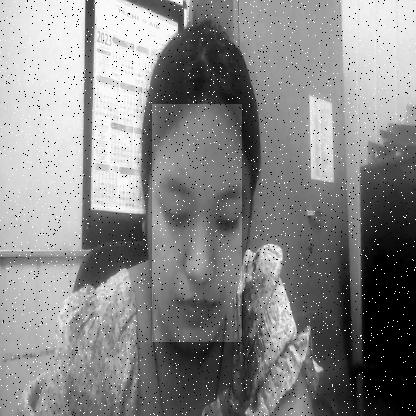Normal: (152, 104, 242, 342)
